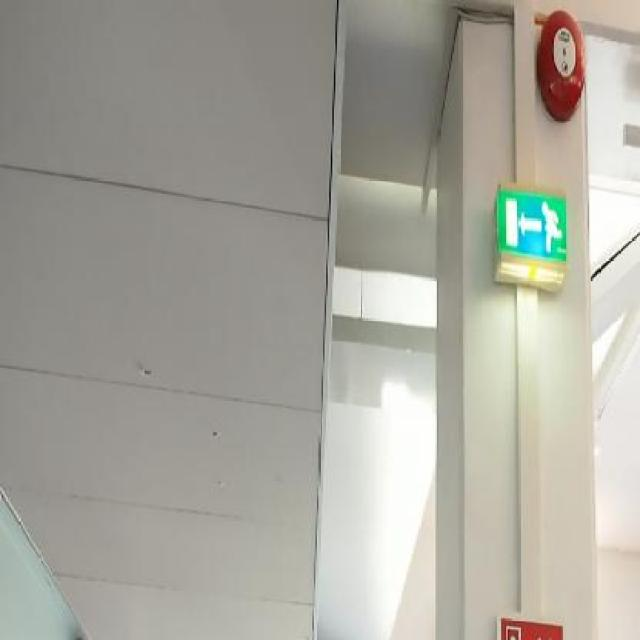emergency_exit: (492, 181, 569, 293), (534, 8, 586, 123), (496, 616, 564, 640)
